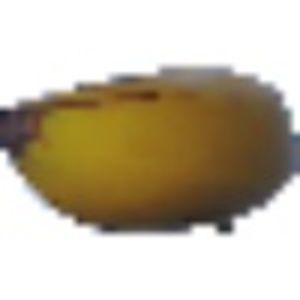banana: (1, 52, 295, 236)
